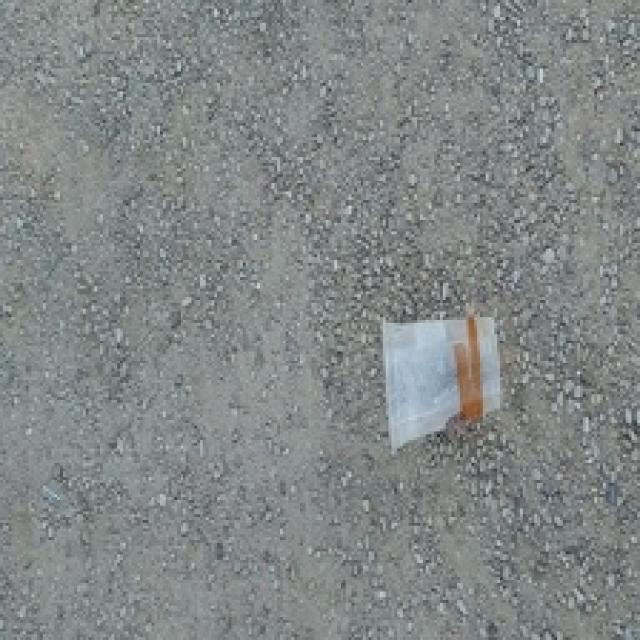Plastic: (378, 314, 500, 456)
